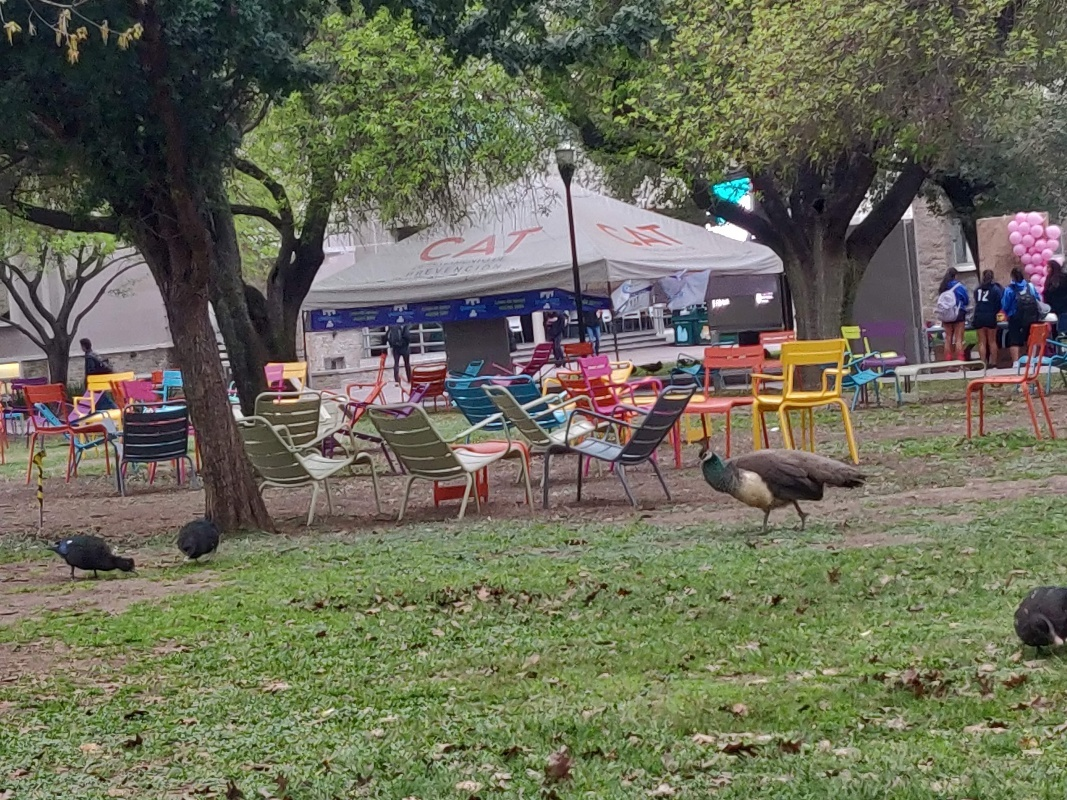pato: (39, 529, 136, 573), (1013, 585, 1063, 648), (177, 513, 220, 560)
pavoreal: (696, 448, 827, 530)
